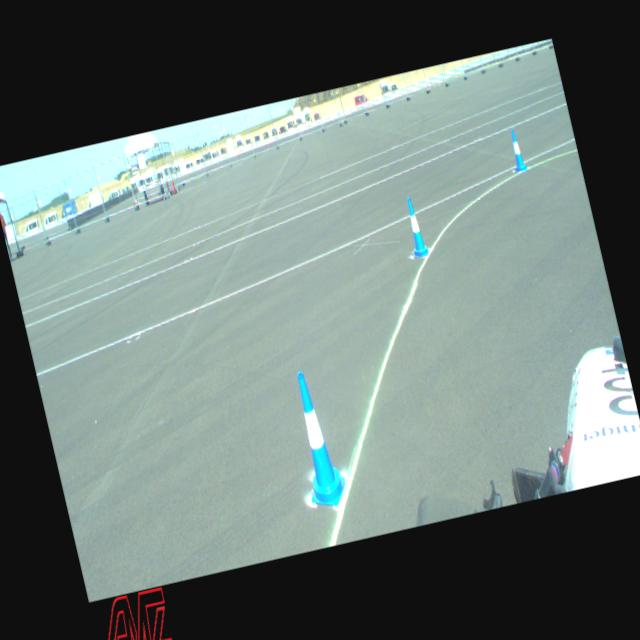blue_cone: (282, 368, 350, 510), (400, 196, 430, 258), (506, 128, 528, 172)
